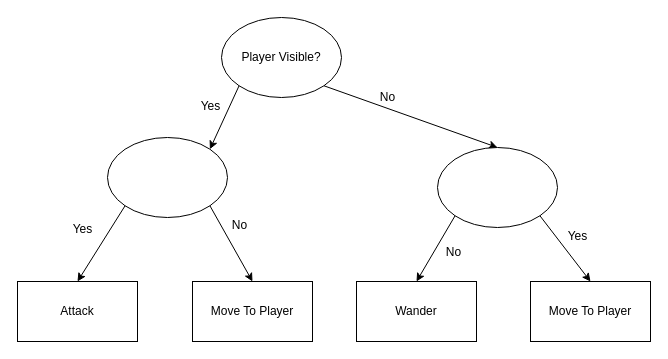
This 668x359 diagram has some shape labels left out. Each missing label, with the centre of its shape:
Player Seen Recently?: point 497,187
Player Within Range?: point 167,177
